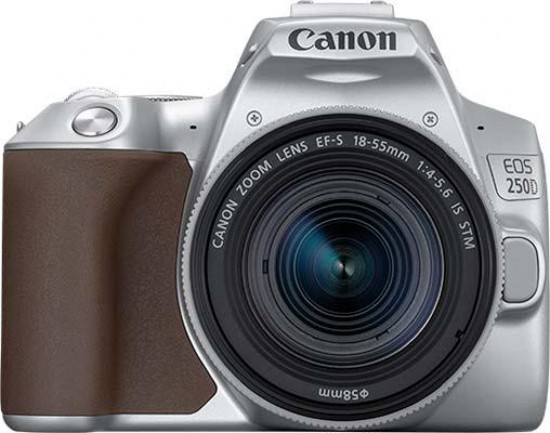camera: (9, 24, 542, 426)
